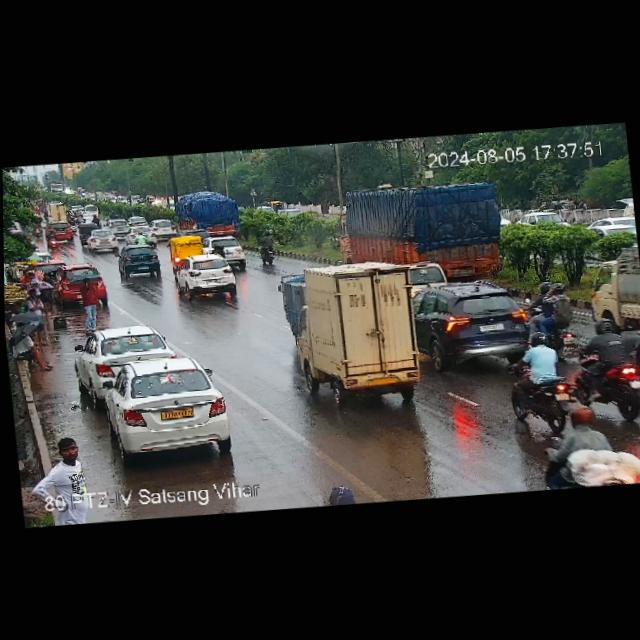car: (102, 354, 236, 461), (412, 277, 538, 373), (76, 322, 171, 393), (175, 252, 242, 300), (116, 245, 162, 281), (170, 233, 203, 267), (219, 233, 247, 269), (412, 258, 449, 282), (84, 231, 120, 254), (121, 223, 157, 246), (43, 220, 74, 243), (150, 218, 179, 240), (42, 201, 71, 223), (102, 217, 133, 235), (126, 214, 150, 228)
motorcycle: (535, 412, 640, 490), (510, 330, 573, 425), (573, 323, 640, 402), (514, 287, 568, 335), (255, 227, 276, 267), (75, 220, 97, 246), (45, 227, 60, 252), (212, 242, 226, 256), (135, 229, 146, 244)
person: (29, 433, 95, 527), (11, 331, 53, 373), (27, 287, 47, 346), (79, 272, 98, 328), (42, 269, 58, 318), (27, 271, 40, 290), (21, 269, 31, 285)
truck: (274, 250, 447, 412), (337, 174, 516, 287), (580, 230, 640, 325), (176, 189, 236, 233)
